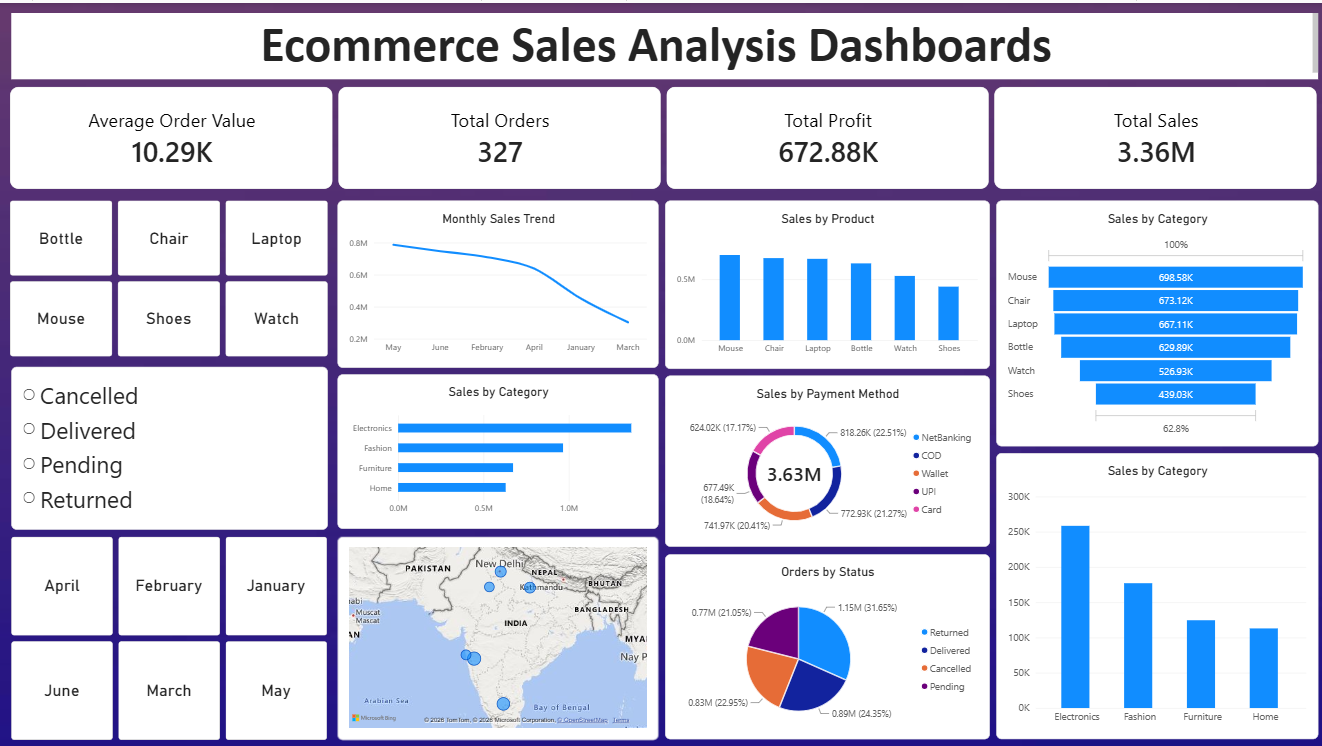

Layout of this report page (visuals, bound fields, positions):
{"tool":"powerbi","page":{"name":"Page 1","canvas":[1920,1080],"ordinal":0},"visuals":[{"type":"cardVisual","fields":{"Data":["Dax Measure.Average Order Value","Dax Measure.Total Orders","Dax Measure.Total Profit","Dax Measure.Total Sales"]},"box":[14.5,122,1892.9,148.4],"z":0},{"type":"textbox","box":[16,14,1892,96],"z":1000},{"type":"barChart","title":"Sales by Category","fields":{"Category":["ecommerce orders.Category"],"Y":["Sum(ecommerce orders.Sales)"]},"box":[488,538,465,224],"z":2000},{"type":"clusteredColumnChart","title":"Sales by Product","fields":{"Category":["ecommerce orders.Product"],"Y":["Sum(ecommerce orders.Sales)"]},"box":[962,286,470,244],"z":3000},{"type":"map","title":"Sales by City","fields":{"Category":["ecommerce orders.City"],"Size":["Sum(ecommerce orders.Sales)"]},"box":[488,772,465,294],"z":4000},{"type":"lineChart","title":"Monthly Sales Trend","fields":{"Category":["ecommerce orders.Order_Month"],"Y":["Sum(ecommerce orders.Sales)"]},"box":[488,286,465,242],"z":5000},{"type":"donutChart","title":"Sales by Payment Method","fields":{"Category":["ecommerce orders.Payment_Mode"],"Y":["Sum(ecommerce orders.Sales)"]},"box":[962,540,470,248],"z":6000},{"type":"pieChart","title":"Orders by Status","fields":{"Category":["ecommerce orders.Order_Status"],"Y":["Sum(ecommerce orders.Sales)"]},"box":[962,798,470,268],"z":7000},{"type":"funnel","title":"Sales by Category","fields":{"Category":["ecommerce orders.Product"],"Y":["Sum(ecommerce orders.Sales)"]},"box":[1442,286,466,356],"z":8000},{"type":"columnChart","title":"Sales by Category","fields":{"Category":["ecommerce orders.Category"],"Y":["Sum(ecommerce orders.Profit)"]},"box":[1442,652,466,414],"z":9000},{"type":"advancedSlicerVisual","fields":{"Values":["ecommerce orders.Product"]},"box":[14,286,460,226],"z":10000},{"type":"listSlicer","fields":{"Values":["ecommerce orders.Order_Status"]},"box":[16,526,458,236],"z":11000},{"type":"advancedSlicerVisual","fields":{"Values":["ecommerce orders.Order_Month"]},"box":[16,772,458,294],"z":12000}]}

Visuals, with their boxes in screenshot pixels (x1, y1, x2, y2), scaled from the page's 1920x1080 canvas onto the 1322x746 screenshot:
cardVisual - Dax Measure.Average Order Value x Dax Measure.Total Orders: 10 84 1313 187
textbox: 11 10 1314 76
"Sales by Category" barChart: 336 372 656 526
"Sales by Product" clusteredColumnChart: 662 198 986 366
"Sales by City" map: 336 533 656 736
"Monthly Sales Trend" lineChart: 336 198 656 365
"Sales by Payment Method" donutChart: 662 373 986 544
"Orders by Status" pieChart: 662 551 986 736
"Sales by Category" funnel: 993 198 1314 443
"Sales by Category" columnChart: 993 450 1314 736
advancedSlicerVisual - ecommerce orders.Product: 10 198 326 354
listSlicer - ecommerce orders.Order_Status: 11 363 326 526
advancedSlicerVisual - ecommerce orders.Order_Month: 11 533 326 736
